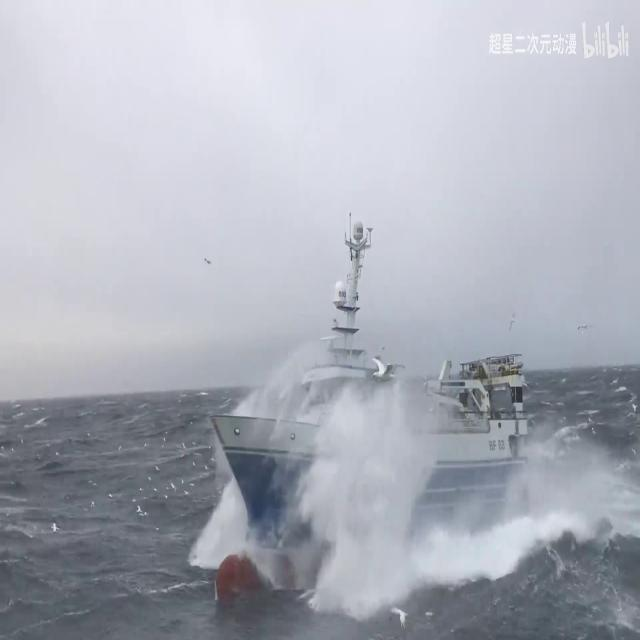houseboat: (206, 212, 520, 556)
